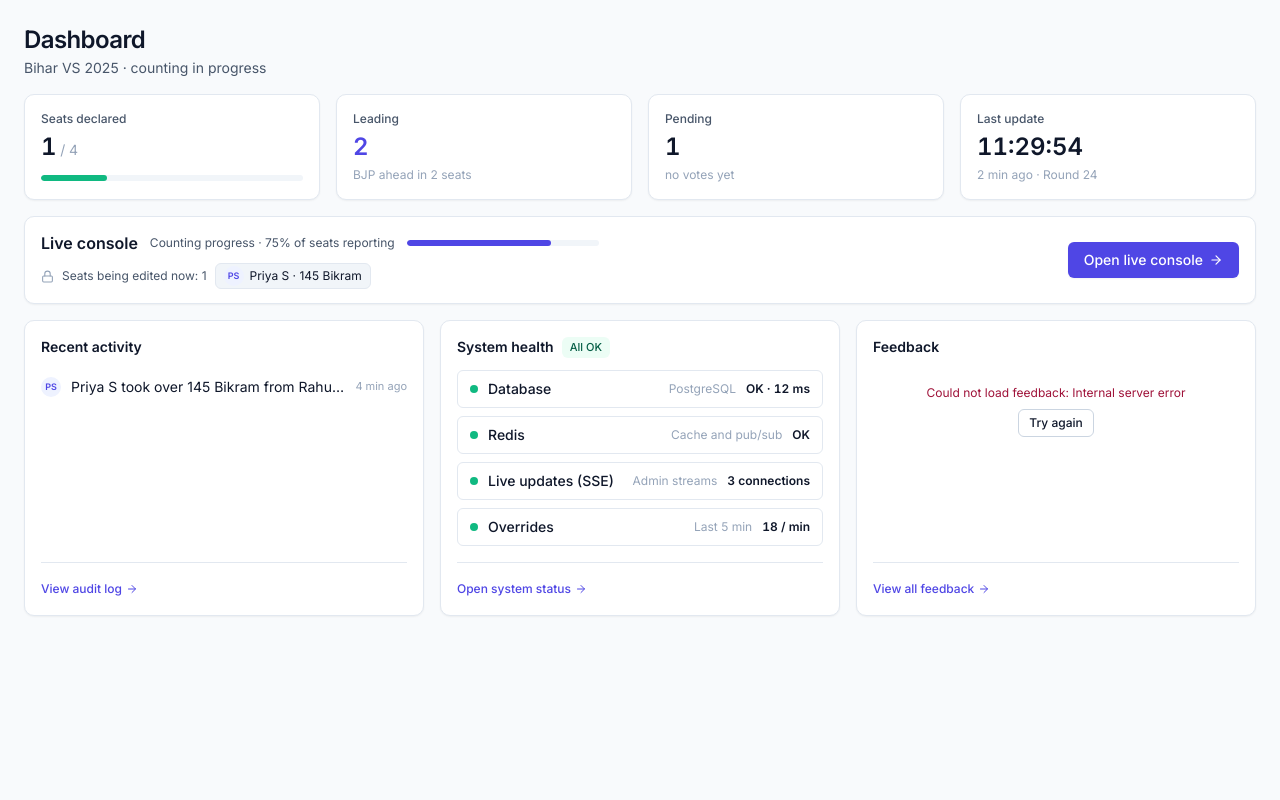
Test: Dashboard — card states › one failing card shows its own error with Try again; the others still load
Expected: the message shows "Could not load feedback", [926,385,1186,400]
Expected: the text "All OK" is shown, [562,337,610,358]
Click the button "Try again": (1056, 423) [1018,409,1094,437]
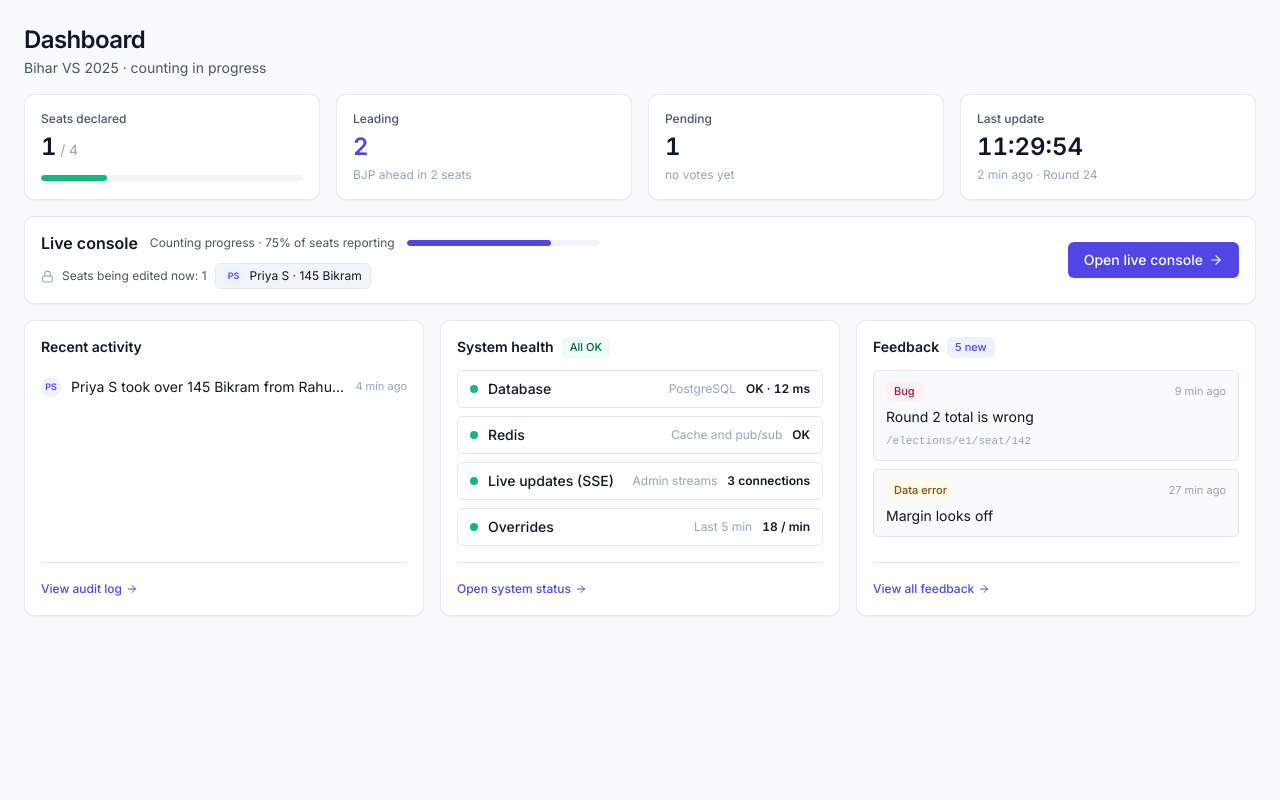
Expected: the text "5 new" is shown, [947,337,995,358]
